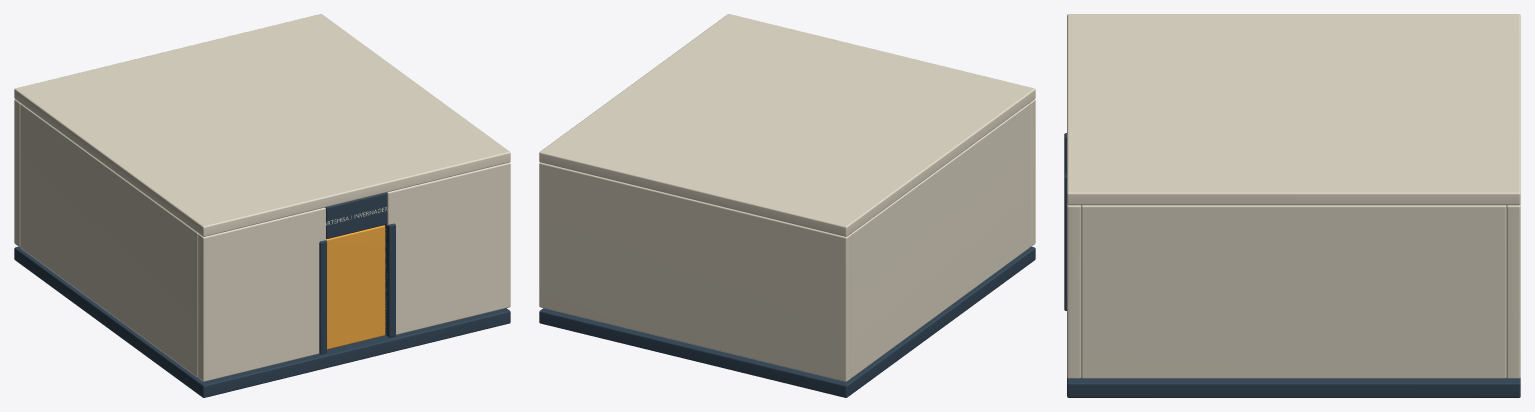
File: greenhouse.glb
The picture shows the model from 3 angles, left to right: view 1: azimuth 30°, elevation 25°; view 2: azimuth 150°, elevation 25°; view 3: azimuth 270°, elevation 25°; orthographic projection. The views are drawn at different scales.
Visible parts, largest first — view 1: Body, Cover, Door_0; view 2: Body, Cover; view 3: Body, Cover.
Boxes of the visible parts, bbox=[...] form: Body: bbox=[14, 99, 510, 397]; Cover: bbox=[14, 14, 510, 236]; Door_0: bbox=[326, 225, 385, 349]; Body: bbox=[539, 99, 1035, 397]; Cover: bbox=[539, 14, 1035, 236]; Body: bbox=[1064, 133, 1520, 397]; Cover: bbox=[1067, 14, 1520, 205].
Bounding box in the file's own units: 6 × 3.2 × 6.44.
